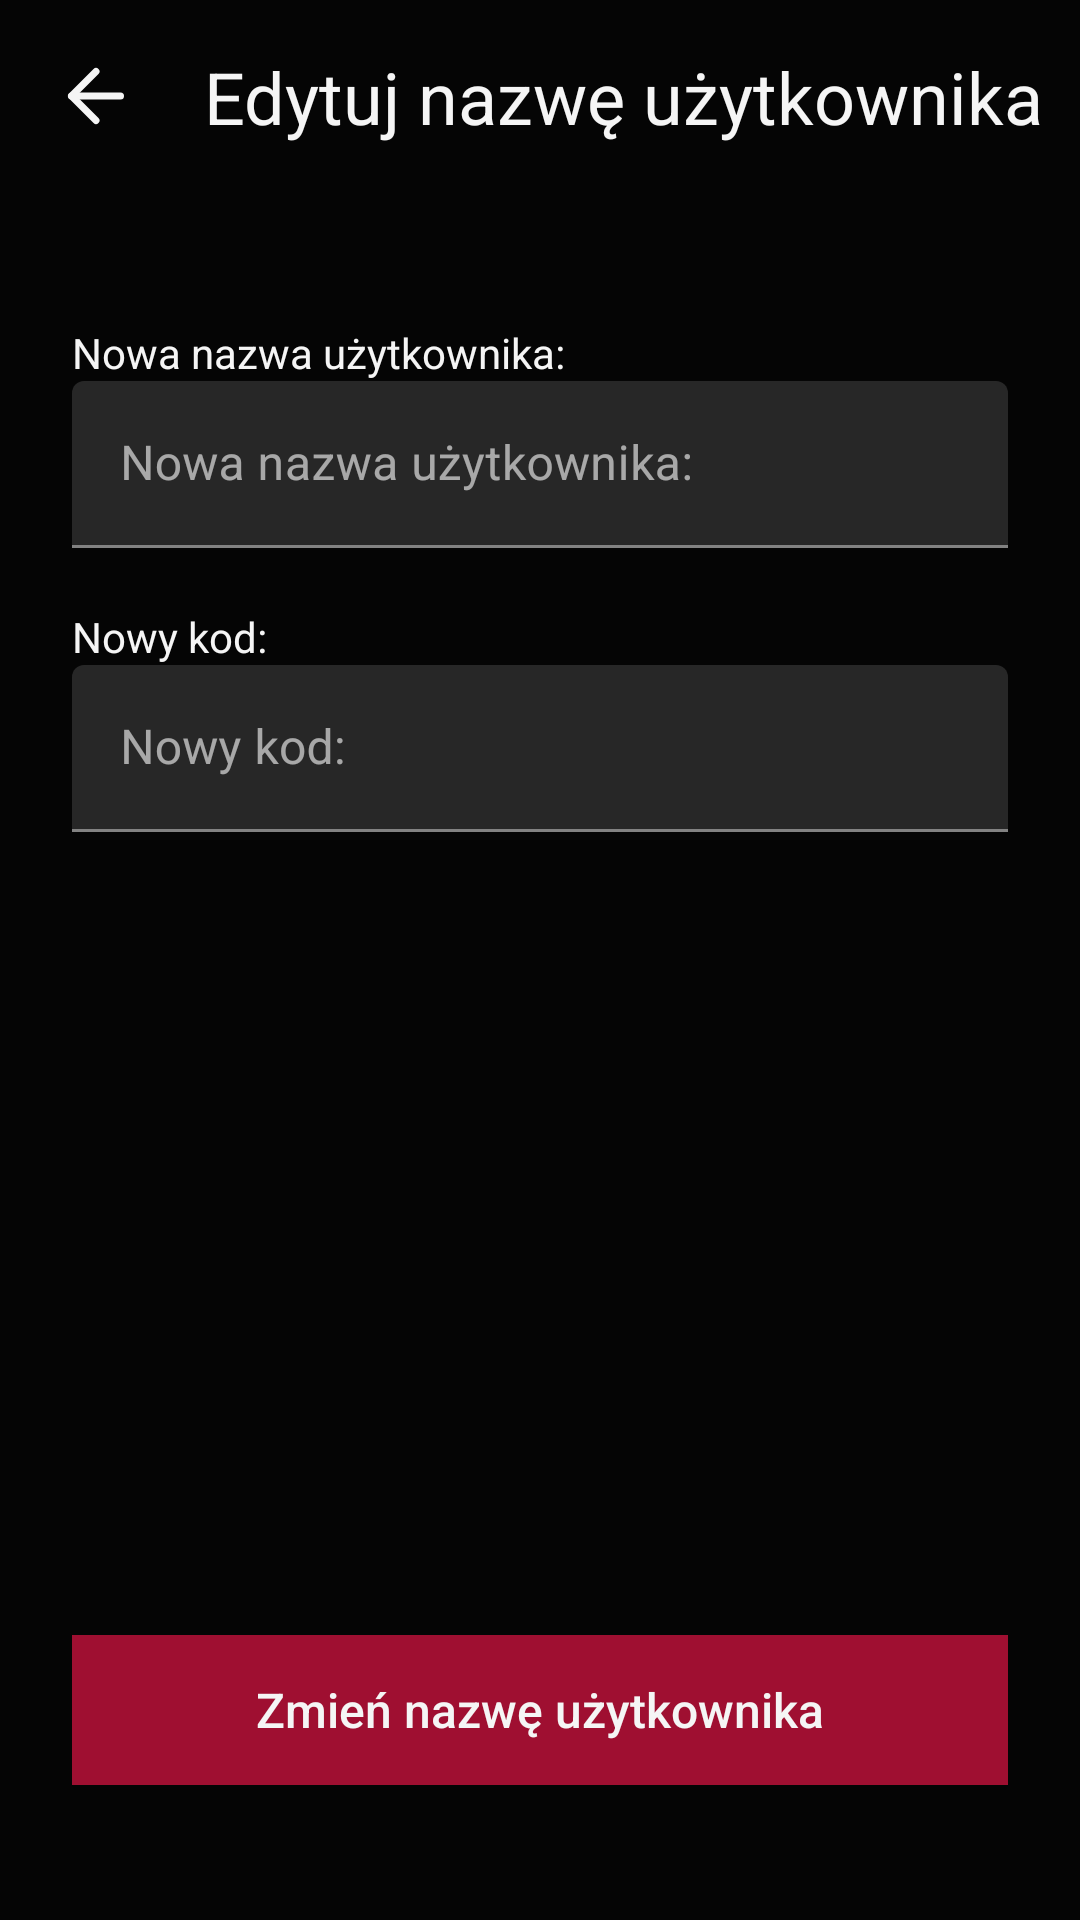

Icons on this 1080×1920 Android screen, each with its box as (x1, y1, x2, y2):
Go Back: (68, 67, 124, 125)
